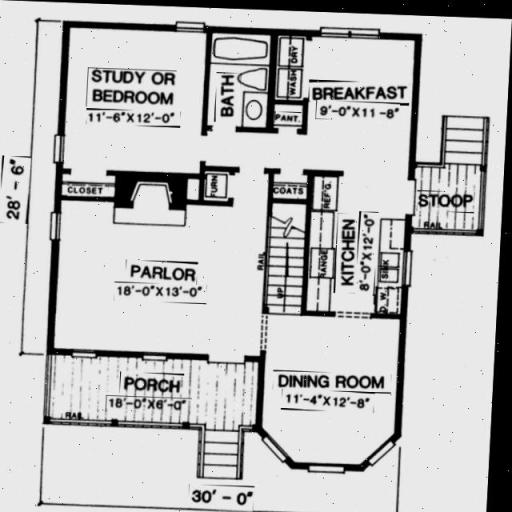Room: (69, 206, 251, 349), (273, 322, 387, 449), (283, 40, 415, 144)
bathroom: (213, 39, 265, 133)
bedroom: (72, 31, 203, 153)
kitchen: (317, 182, 399, 306)
porch: (50, 356, 252, 430)
